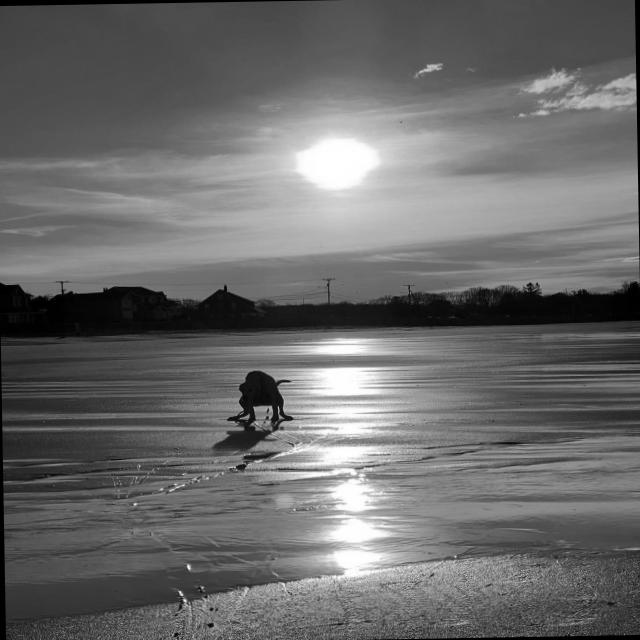squatting: (222, 365, 298, 431)
